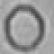no answer: (5, 4, 47, 50)
